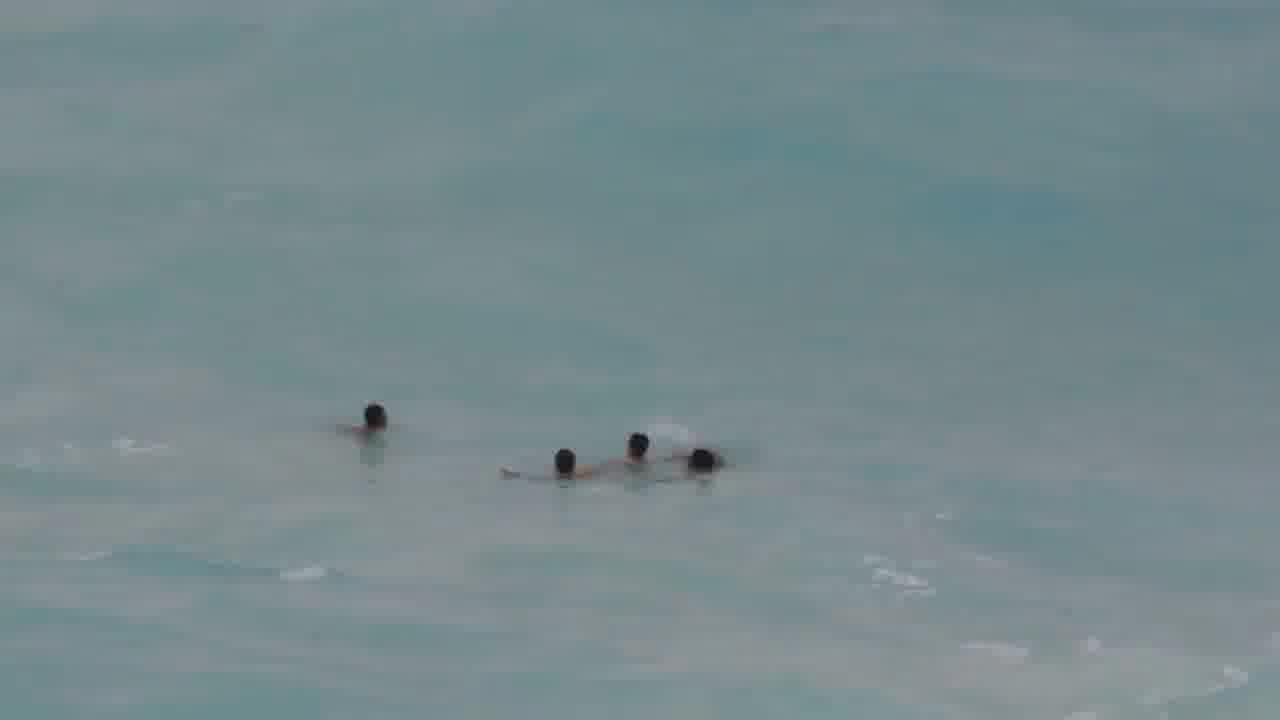human: (494, 441, 601, 482), (328, 389, 398, 439), (590, 426, 677, 461), (674, 443, 732, 475)
